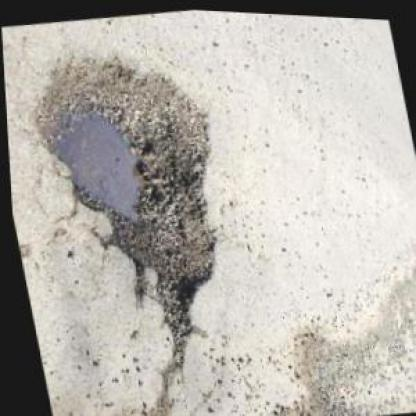pothole: (21, 39, 248, 342)
